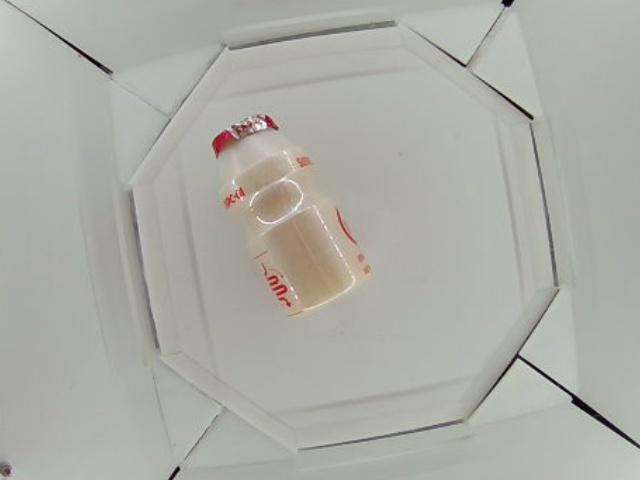Bottle: (205, 115, 372, 320)
